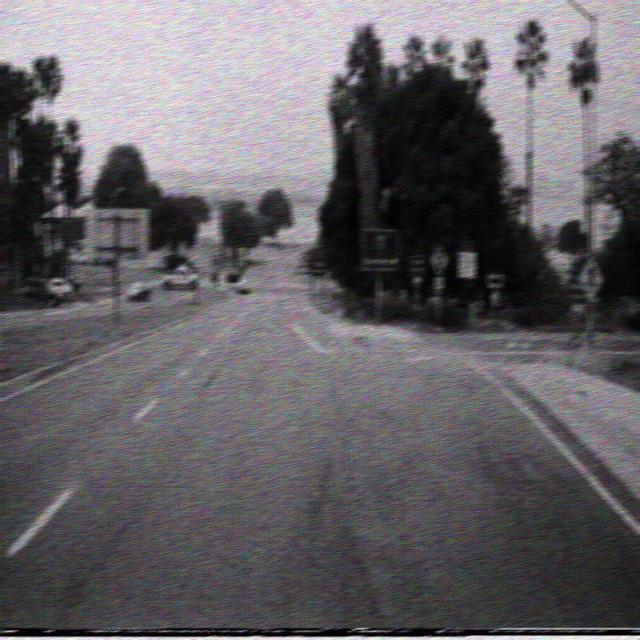pedestrianCrossing: (578, 254, 604, 302)
